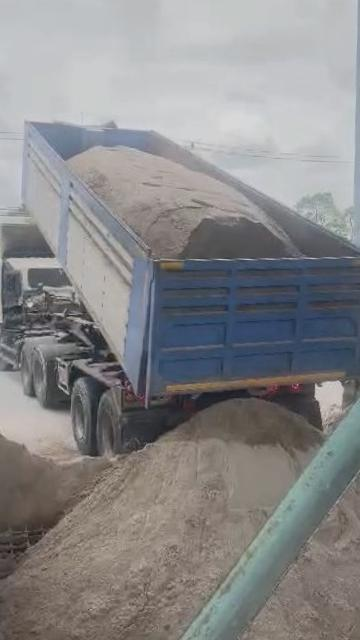sand: (0, 399, 322, 640), (68, 147, 299, 258), (226, 468, 360, 640), (0, 416, 110, 536), (324, 405, 350, 434)
